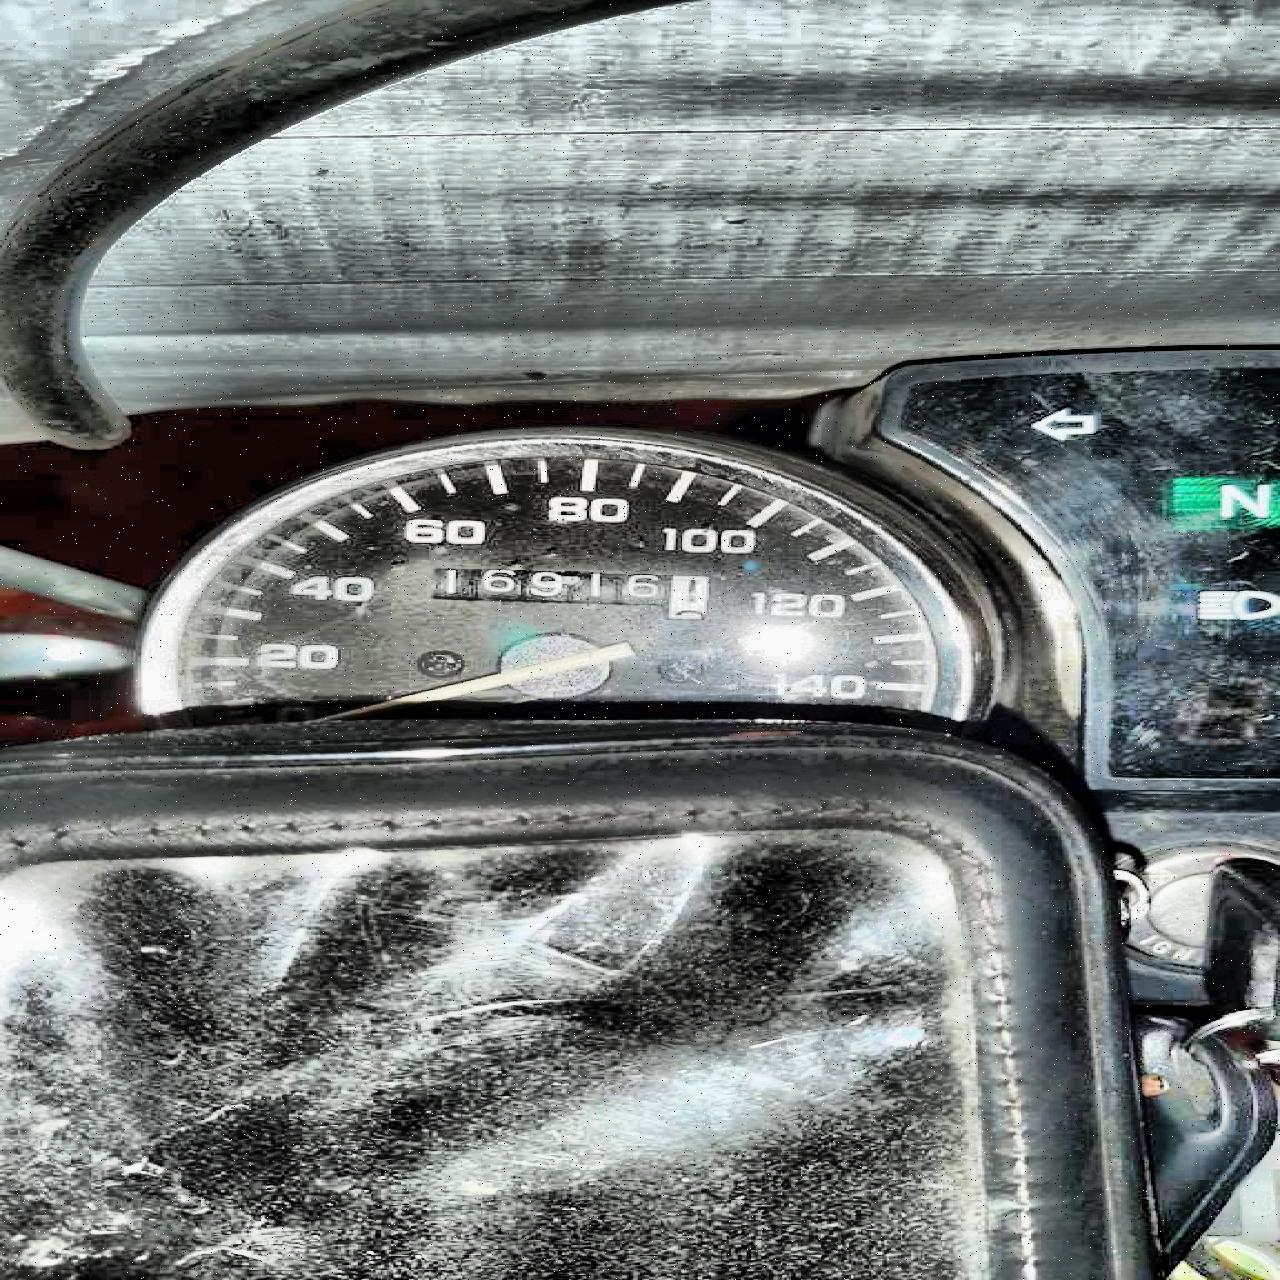1: (442, 567, 458, 592), (682, 577, 696, 604), (587, 572, 602, 597)
6: (479, 567, 513, 592), (625, 573, 658, 597)
9: (526, 572, 558, 597)
odometer: (429, 565, 709, 620)
